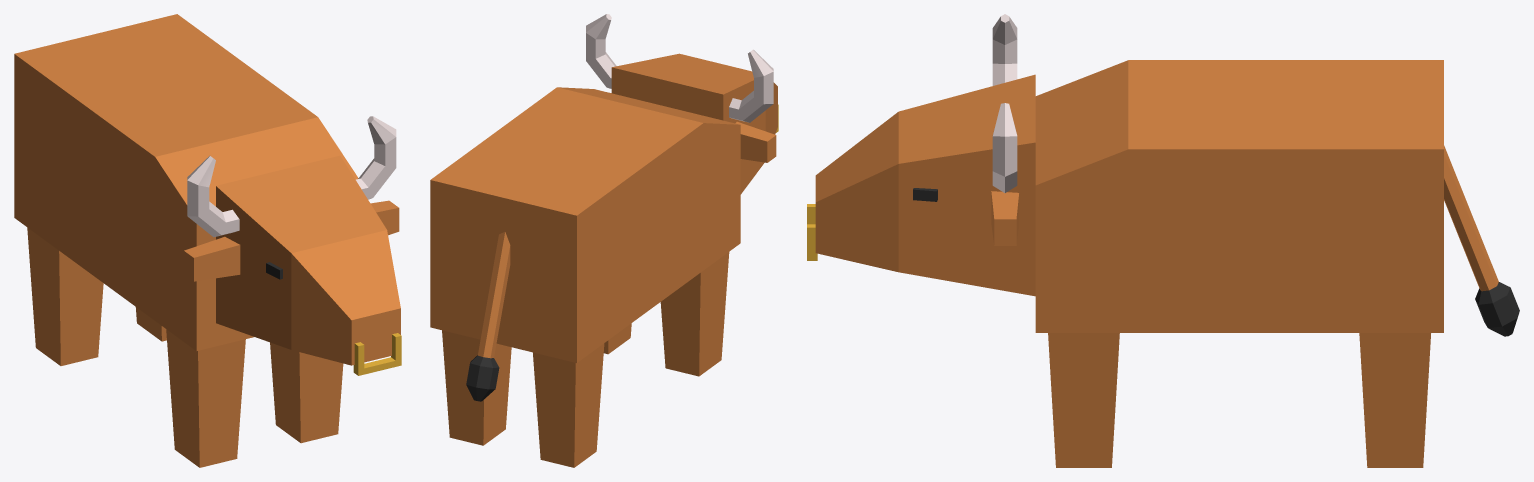
The model's file is cow.fbx.
3 views of the same model, side by side, from view 1: azimuth 30°, elevation 25°; view 2: azimuth 150°, elevation 25°; view 3: azimuth 270°, elevation 25° (orthographic). The views are drawn at different scales.
Parts seen in each view (by area): view 1: cow; view 2: cow; view 3: cow.
Part boxes in pixels (x1=…): cow: x1=14, y1=14, x2=401, y2=467; cow: x1=430, y1=14, x2=778, y2=467; cow: x1=807, y1=14, x2=1519, y2=467.
Size of the model in its own units: 6954 by 18340 by 10549.
